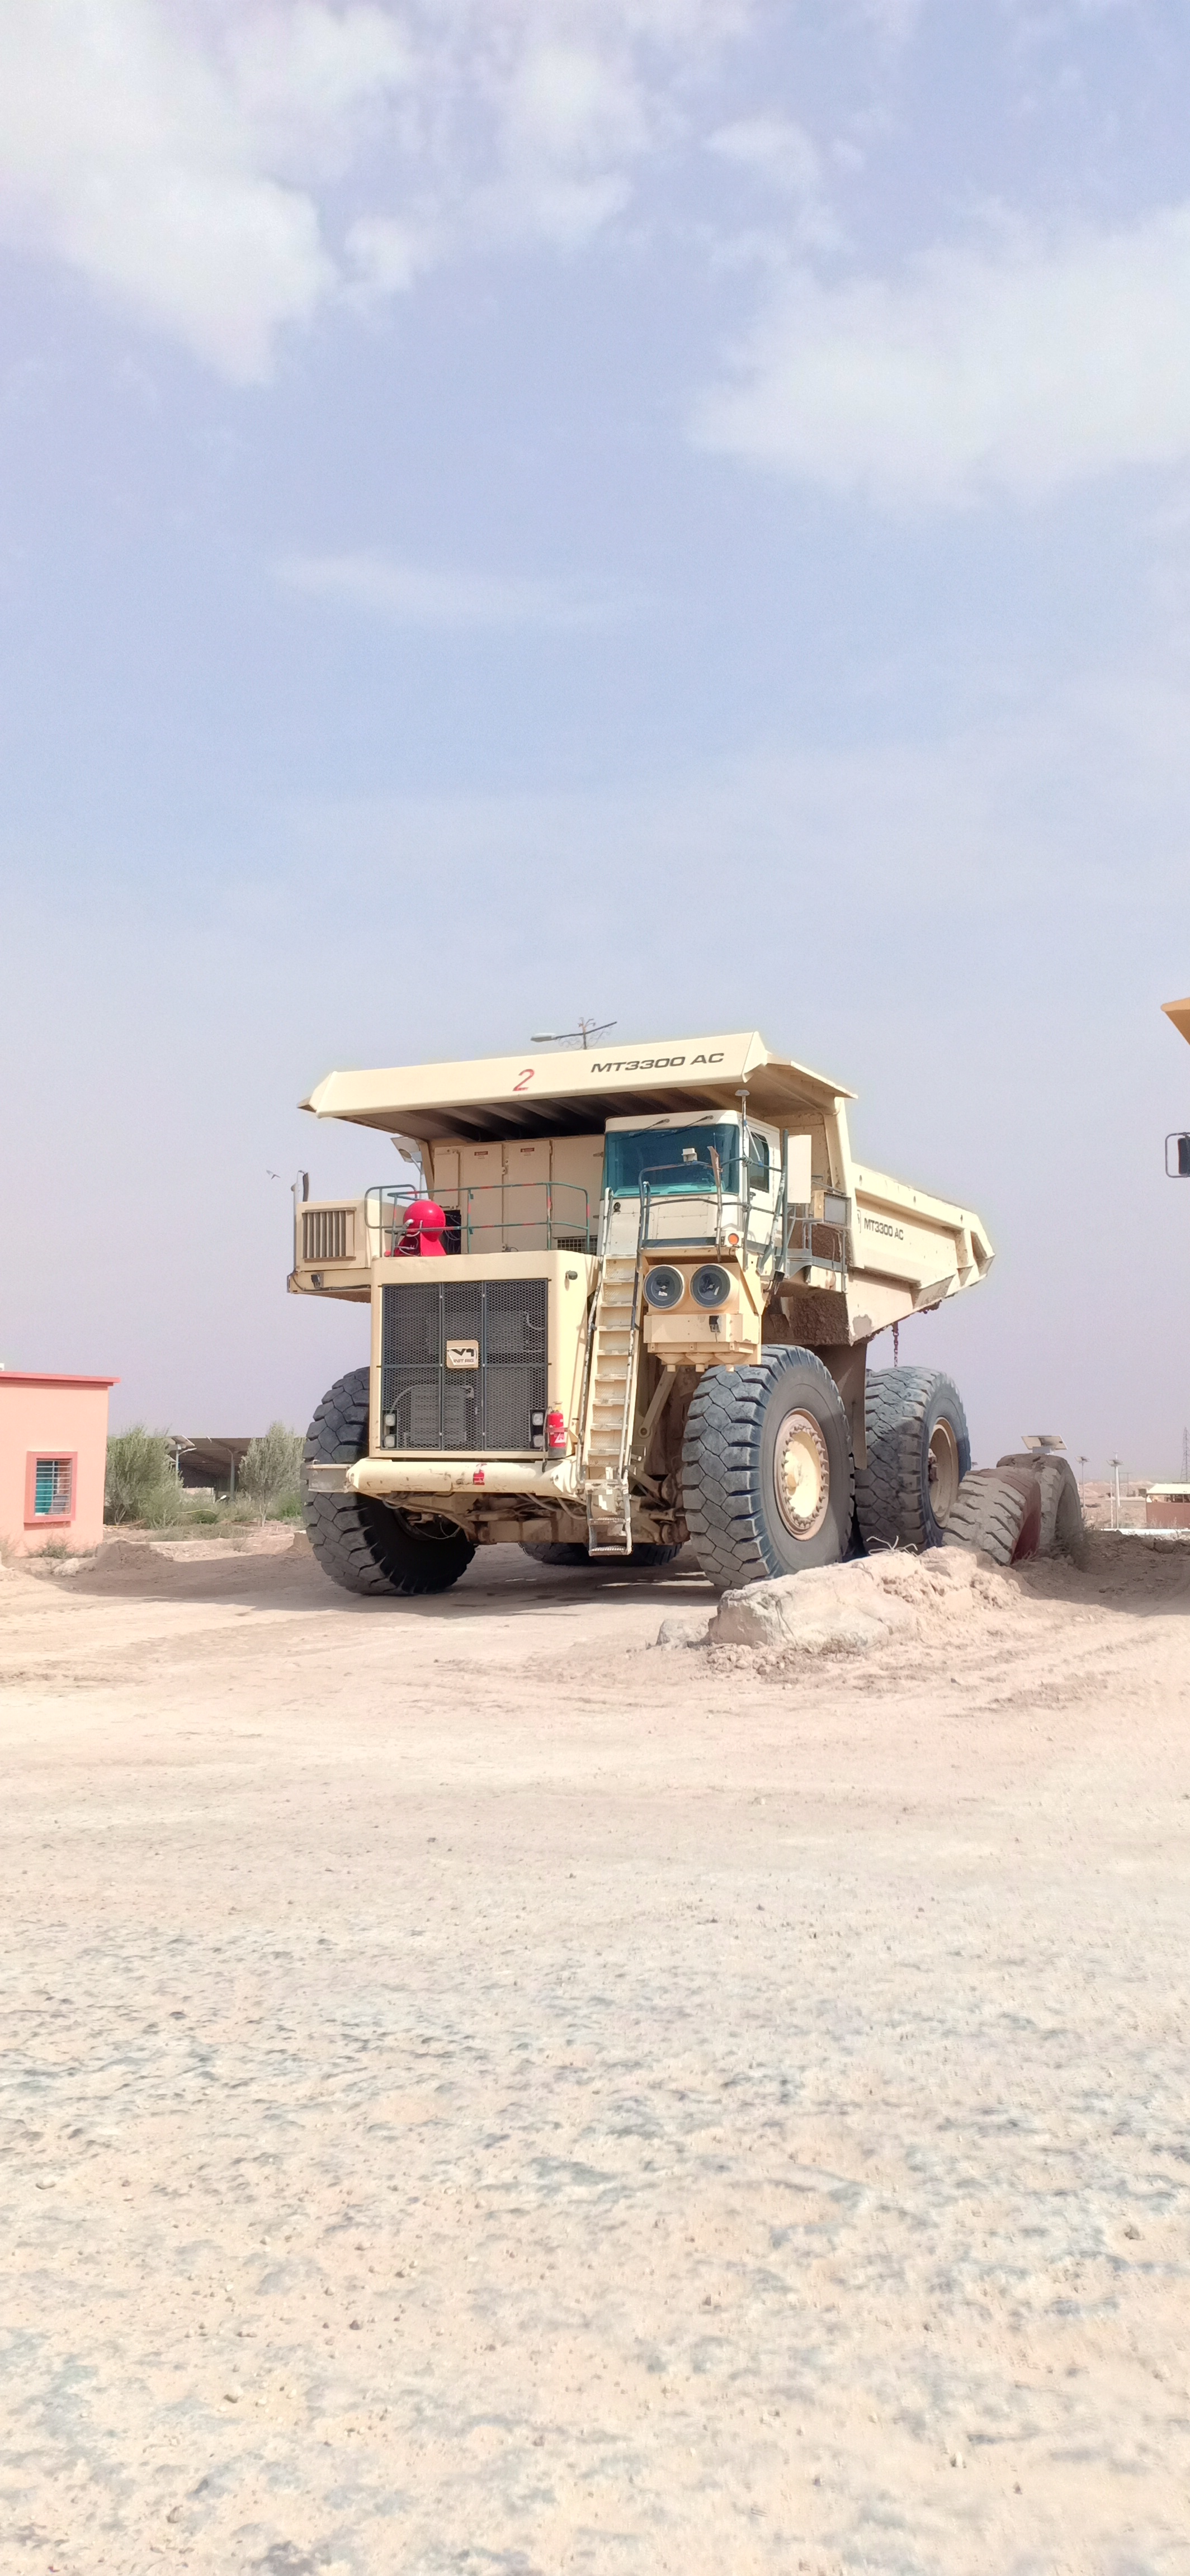camion: (274, 1033, 986, 1620)
